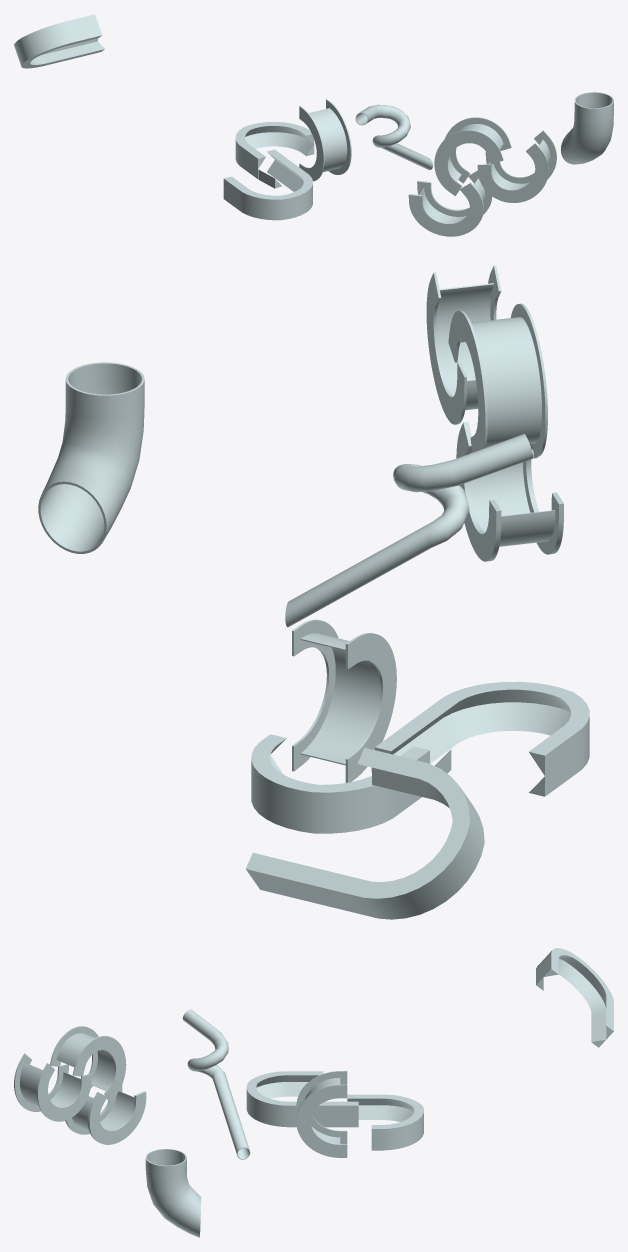
File: Plastic_tubes.fbx
3 renders of one model, top to bottom at view 1: azimuth 30°, elevation 25°; view 2: azimuth 150°, elevation 25°; view 3: azimuth 270°, elevation 25°, orthographic. The views are drawn at different scales.
Parts seen in each view (by area): view 1: Prism__7_.006, Prism__7_.007, Prism__7_.001, Prism__7_.002, Prism__7_.005, Prism__7_.010, Prism__7_.009, Prism__7_.008, Prism__7_.004, Prism__7_, Prism__7_.003, Prism__7_.012; view 2: Prism__7_.001, Prism__7_.005, Prism__7_.007, Prism__7_.012, Prism__7_.008, Prism__7_.006, Prism__7_.009, Prism__7_.002, Prism__7_.004, Prism__7_, Prism__7_.010, Prism__7_.003; view 3: Prism__7_.001, Prism__7_.002, Prism__7_.007, Prism__7_.005, Prism__7_.006, Prism__7_.008, Prism__7_.009, Prism__7_.004, Prism__7_, Prism__7_.010, Prism__7_.012, Prism__7_.003.
Boxes of the visible parts, box(x1,y1,x2,y2) form: Prism__7_.006: box(408, 170, 492, 236); Prism__7_.007: box(434, 117, 511, 195); Prism__7_.001: box(561, 92, 613, 164); Prism__7_.002: box(477, 130, 556, 202); Prism__7_.005: box(299, 99, 351, 181); Prism__7_.010: box(17, 25, 104, 68); Prism__7_.009: box(223, 149, 312, 209); Prism__7_.008: box(355, 104, 432, 169); Prism__7_.004: box(223, 160, 312, 220); Prism__7_: box(235, 122, 314, 168); Prism__7_.003: box(235, 132, 314, 179); Prism__7_.012: box(14, 14, 98, 55); Prism__7_.001: box(38, 362, 144, 553); Prism__7_.005: box(292, 619, 396, 782); Prism__7_.007: box(448, 303, 547, 458); Prism__7_.012: box(246, 747, 477, 909); Prism__7_.008: box(285, 433, 533, 627); Prism__7_.006: box(456, 421, 563, 561); Prism__7_.009: box(375, 681, 589, 775); Prism__7_.002: box(426, 265, 501, 424); Prism__7_.004: box(393, 702, 589, 796); Prism__7_: box(251, 734, 429, 813); Prism__7_.010: box(253, 767, 484, 919); Prism__7_.003: box(251, 755, 421, 833); Prism__7_.001: box(145, 1149, 201, 1237); Prism__7_.002: box(14, 1053, 91, 1121); Prism__7_.007: box(50, 1026, 126, 1102); Prism__7_.005: box(296, 1071, 347, 1157); Prism__7_.006: box(65, 1084, 146, 1144); Prism__7_.008: box(182, 1009, 250, 1159); Prism__7_.009: box(246, 1071, 358, 1116); Prism__7_.004: box(246, 1082, 358, 1127); Prism__7_: box(347, 1094, 423, 1139); Prism__7_.010: box(536, 958, 606, 1047); Prism__7_.012: box(543, 948, 613, 1039); Prism__7_.003: box(358, 1105, 423, 1150).
Bounding box in the file's own units: 346 × 110 × 437.
